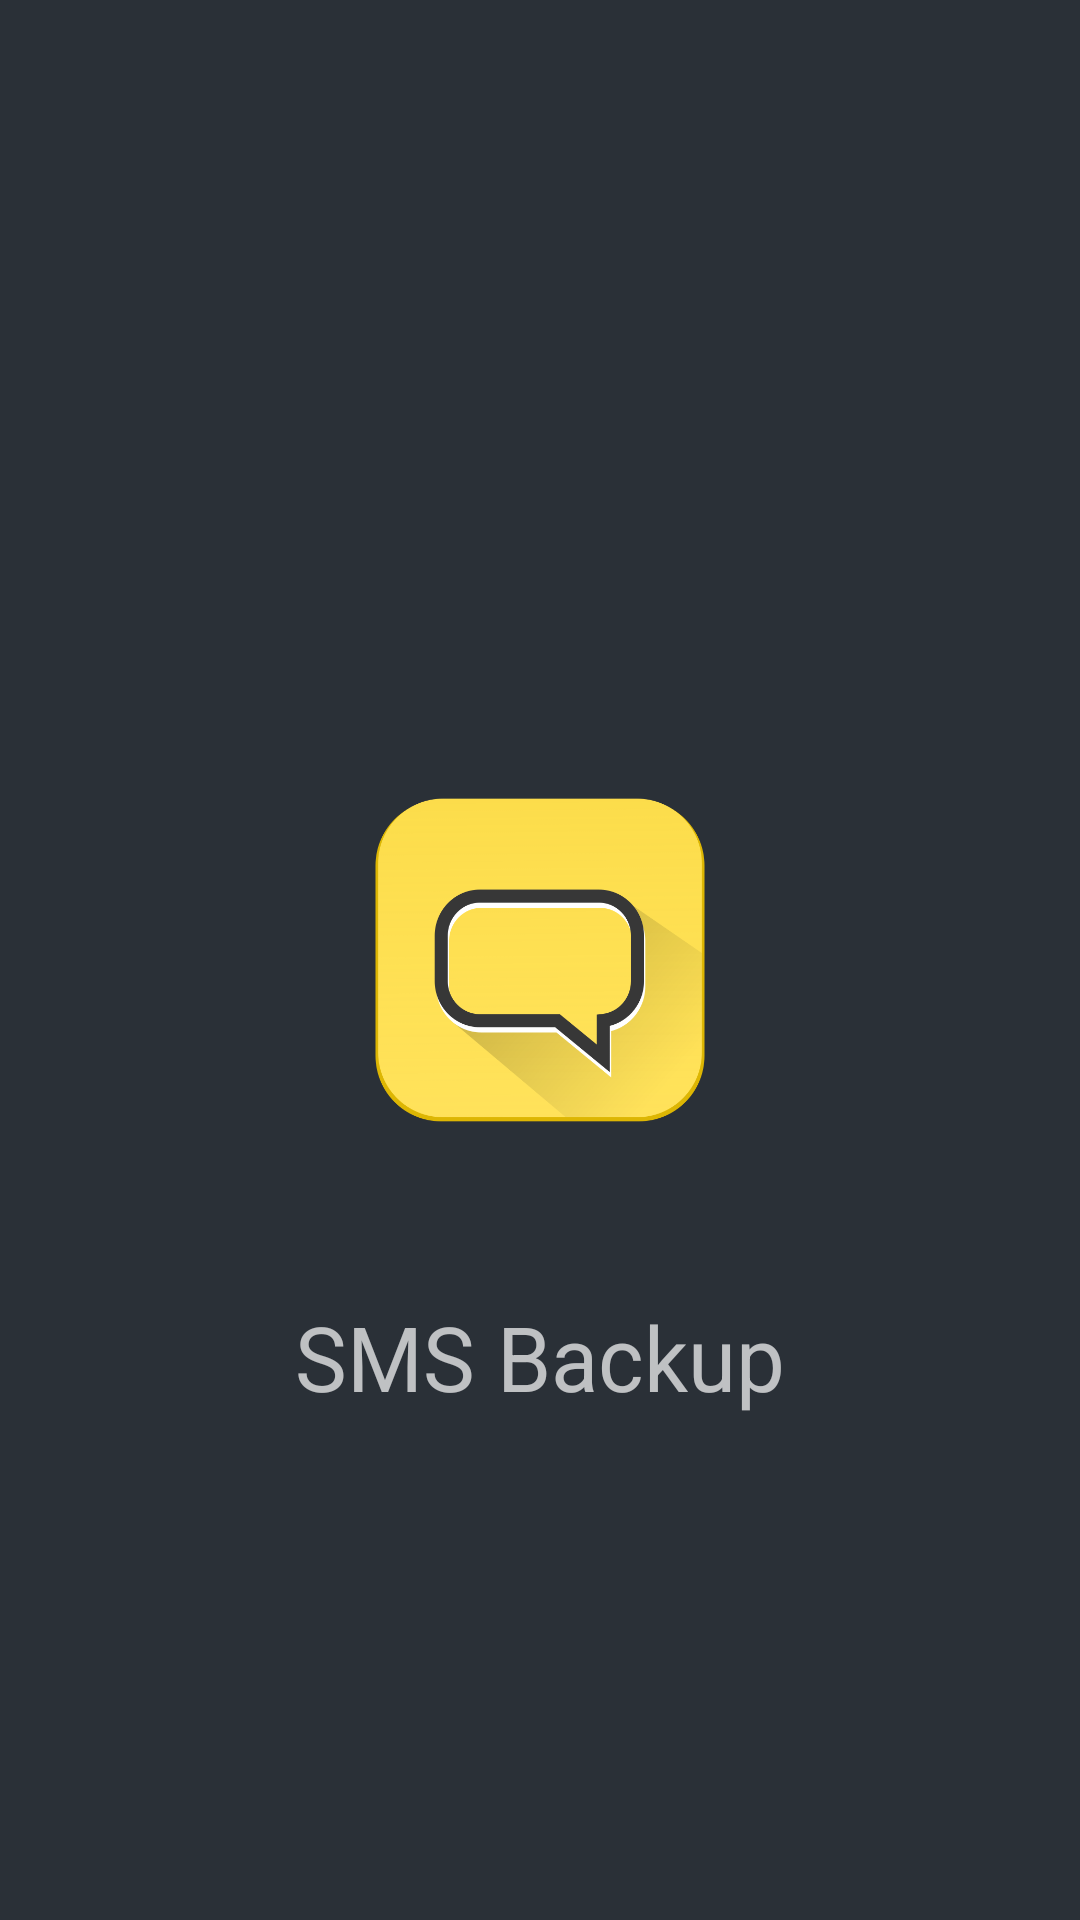

Screen size 1080px×1920px. Icon name, then its center in pixels as point (x, y):
App icon: point (540, 960)
